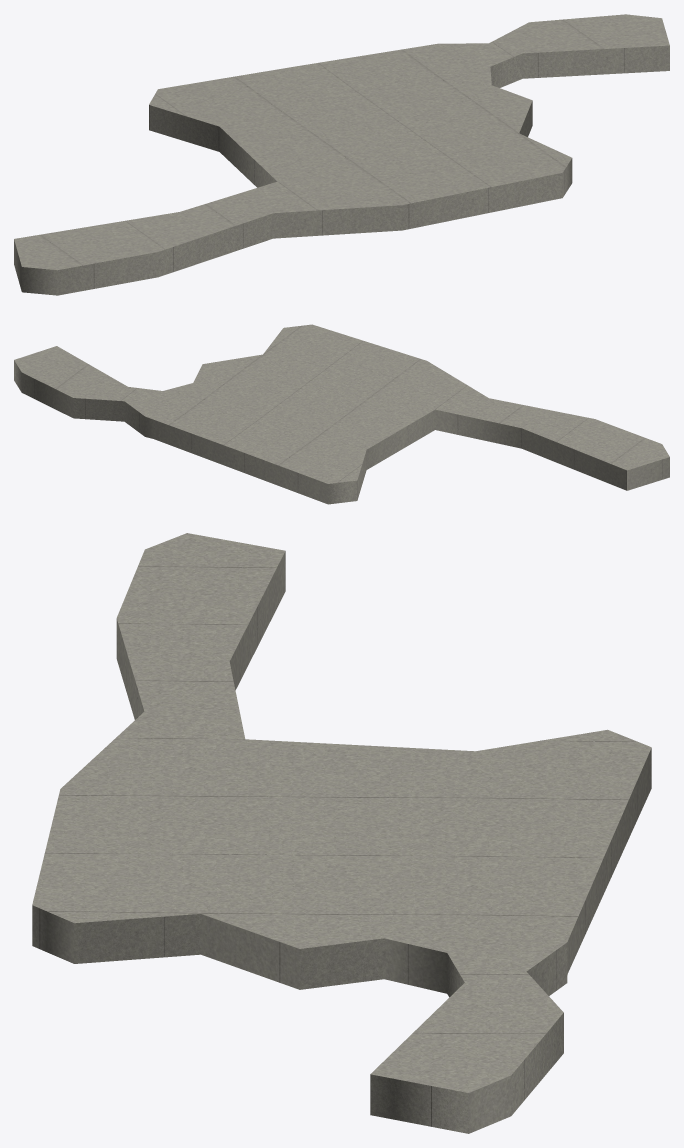
The model's file is curb_07.glb.
3 views of the same model, one above another, from view 1: azimuth 30°, elevation 25°; view 2: azimuth 150°, elevation 25°; view 3: azimuth 270°, elevation 25° (orthographic). The views are drawn at different scales.
Visible parts, largest first — view 1: curb_07.surface, curb_07.sides; view 2: curb_07.surface, curb_07.sides; view 3: curb_07.surface, curb_07.sides.
Part boxes in pixels (<box>): curb_07.surface: <box>14,14,669,270</box>; curb_07.sides: <box>14,45,669,295</box>; curb_07.surface: <box>14,324,669,483</box>; curb_07.sides: <box>14,360,669,504</box>; curb_07.surface: <box>32,533,651,1092</box>; curb_07.sides: <box>32,551,651,1133</box>.
Bounding box in the file's own units: 4.8 × 0.2182 × 2.2.
Materials: 1 (1 with a texture image).
